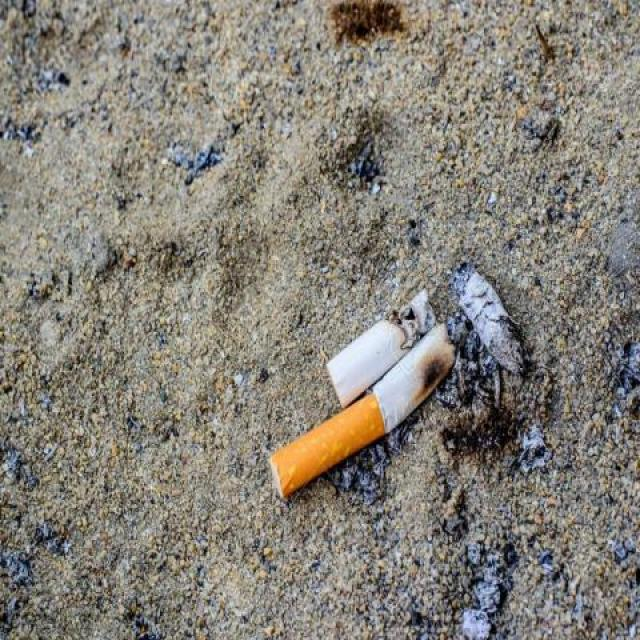non-organic waste: (256, 312, 460, 508)
